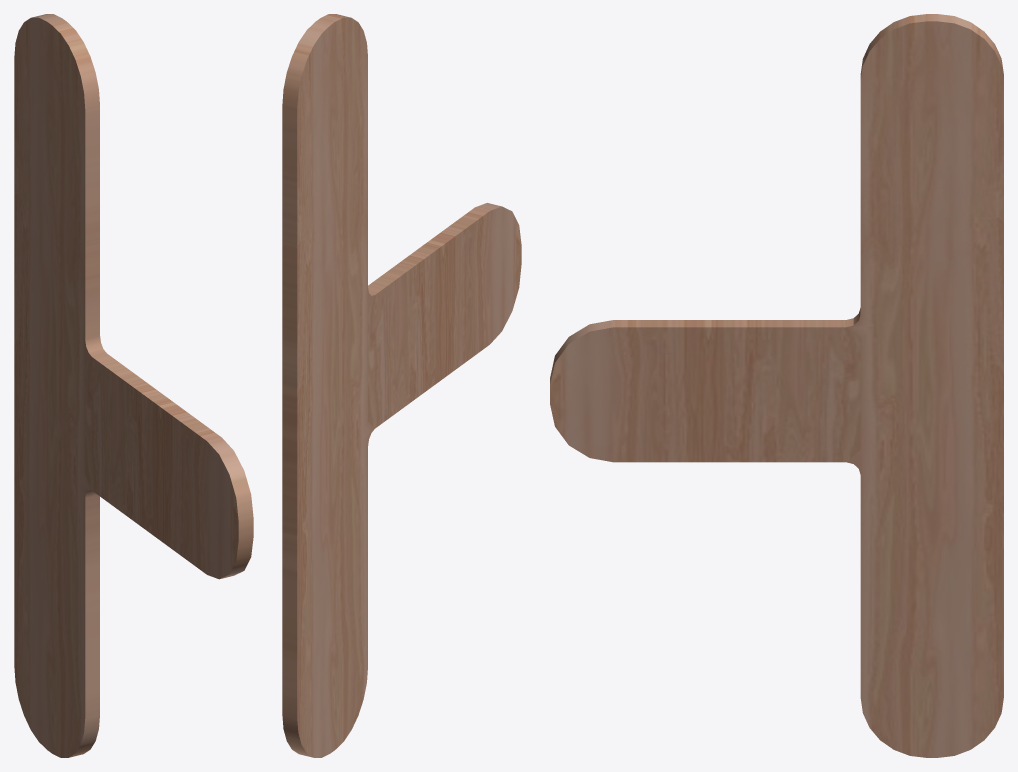
3 views of the same model, side by side, from view 1: azimuth 30°, elevation 25°; view 2: azimuth 150°, elevation 25°; view 3: azimuth 270°, elevation 25° (orthographic).
Visible parts, largest first — view 1: obj_obs_T.004; view 2: obj_obs_T.004; view 3: obj_obs_T.004.
Part boxes in pixels (x1,y1,x2,y2): obj_obs_T.004: [14, 14, 253, 757]; obj_obs_T.004: [282, 14, 521, 757]; obj_obs_T.004: [550, 14, 1003, 757].
Bounding box in the file's own units: 11.25 × 525 × 293.
